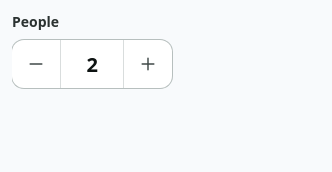
Stepper › plus and minus change the number and stop at the limits
Step 1. Click the button named "One more" → (148, 64), box top-left (124, 40), bottom-right (172, 88)
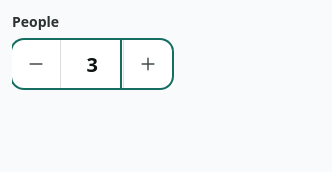
Result: the field labelled "People" holds "3" at top-left (60, 40), bottom-right (124, 88)
Step 2. Click the button named "One fewer" → (36, 64), box top-left (12, 40), bottom-right (60, 88)
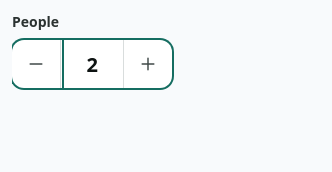
Step 3. Click the button named "One fewer" → (36, 64), box top-left (12, 40), bottom-right (60, 88)
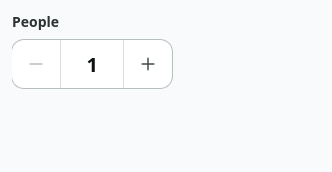
Result: the field labelled "People" holds "1" at top-left (60, 40), bottom-right (124, 88)
Result: the button named "One fewer" is disabled at top-left (12, 40), bottom-right (60, 88)
